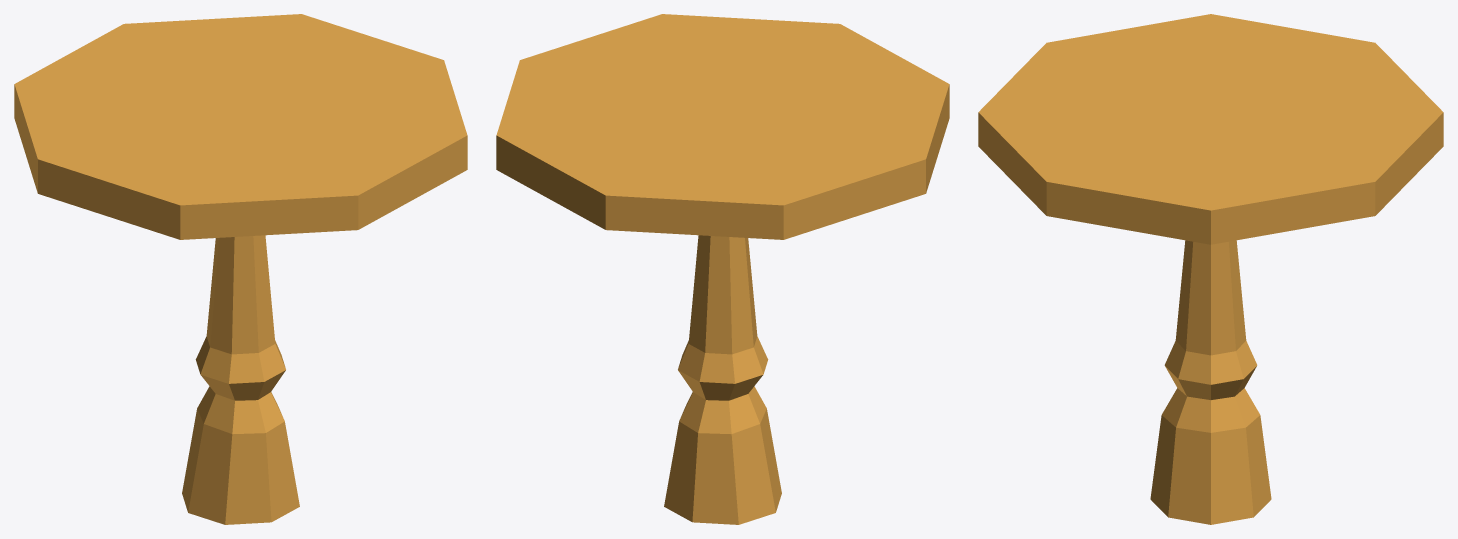
File: TableRef.fbx
3 renders of one model, left to right at view 1: azimuth 30°, elevation 25°; view 2: azimuth 150°, elevation 25°; view 3: azimuth 270°, elevation 25°, orthographic.
Parts seen in each view (by area): view 1: Railing.036; view 2: Railing.036; view 3: Railing.036.
Part boxes in pixels (x1,y1,x2,y2): Railing.036: (14, 14, 467, 524); Railing.036: (496, 14, 949, 524); Railing.036: (978, 14, 1443, 524).
Size of the model in its own units: 1108 by 1017 by 1108.
